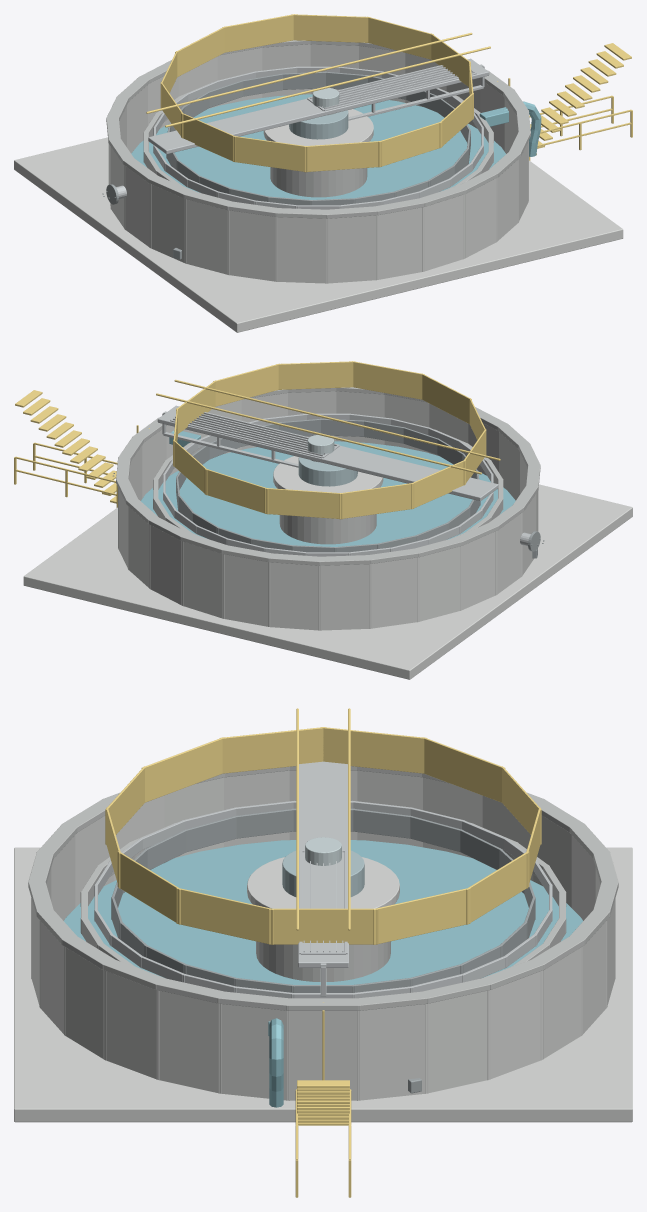
The picture shows the model from 3 angles, top to bottom: view 1: azimuth 30°, elevation 25°; view 2: azimuth 150°, elevation 25°; view 3: azimuth 270°, elevation 25°; orthographic projection. The views are drawn at different scales.
Parts seen in each view (by area): view 1: render-batch-6, render-batch-7, render-batch-3, render-batch-0, render-batch-4, render-batch-1, render-batch-2, render-batch-5; view 2: render-batch-6, render-batch-7, render-batch-3, render-batch-4, render-batch-0, render-batch-1, render-batch-2, render-batch-5; view 3: render-batch-6, render-batch-7, render-batch-0, render-batch-3, render-batch-4, render-batch-1, render-batch-2, render-batch-5.
Part boxes in pixels (x1,y1,x2,y2): render-batch-6: (14, 44, 623, 332); render-batch-7: (146, 14, 632, 172); render-batch-3: (106, 40, 530, 218); render-batch-0: (131, 94, 541, 199); render-batch-4: (116, 58, 489, 209); render-batch-1: (102, 71, 470, 259); render-batch-2: (289, 110, 348, 139); render-batch-5: (312, 87, 339, 115); render-batch-6: (23, 391, 632, 679); render-batch-7: (14, 361, 500, 519); render-batch-3: (116, 387, 540, 565); render-batch-4: (157, 405, 530, 556); render-batch-0: (141, 430, 515, 546); render-batch-1: (113, 418, 544, 558); render-batch-2: (298, 457, 357, 486); render-batch-5: (307, 434, 334, 462); render-batch-6: (14, 770, 632, 1122); render-batch-7: (105, 708, 541, 1197); render-batch-0: (64, 840, 582, 1107); render-batch-3: (28, 766, 618, 1010); render-batch-4: (94, 761, 552, 998); render-batch-1: (111, 808, 535, 1093); render-batch-2: (282, 850, 364, 896); render-batch-5: (305, 837, 341, 865).
Bounding box in the file's own units: 21.23 × 5.04 × 15.8.
